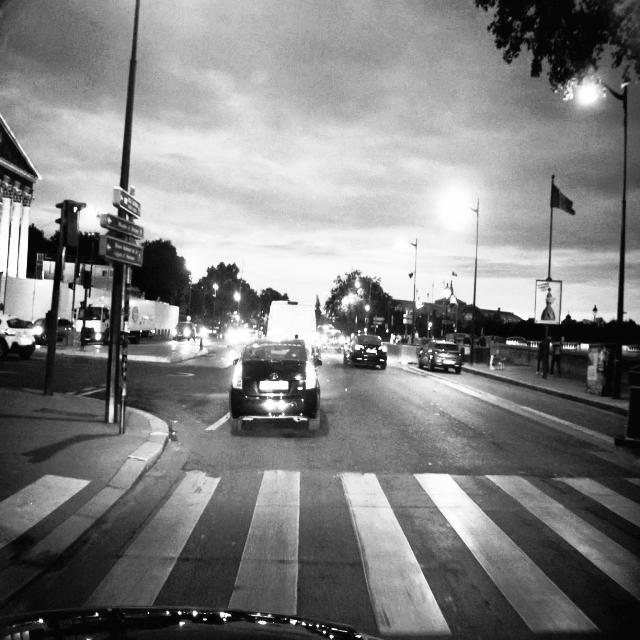Truck: (76, 296, 157, 345)
